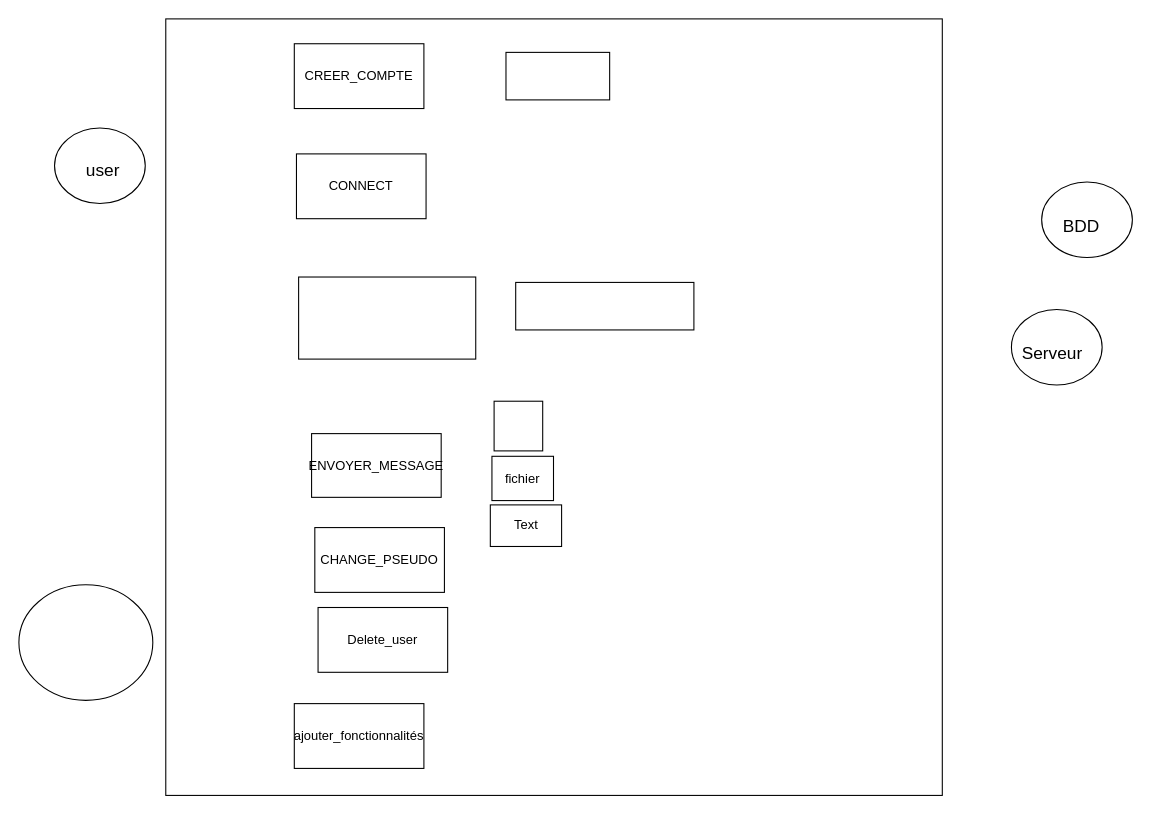
Some shapes in this 1151 by 814 pixel diagram are drawn without their labels. The shapes that lost their labels are listed below. From the top down, each one's centre as x and y in pixels, then its label:
point (557, 75): choisir_PSEUDO
point (387, 317): CREER_CONVERSATION
point (604, 305): VOIR_utilisateurs_connectés
point (518, 425): photo
point (85, 642): Administrator
